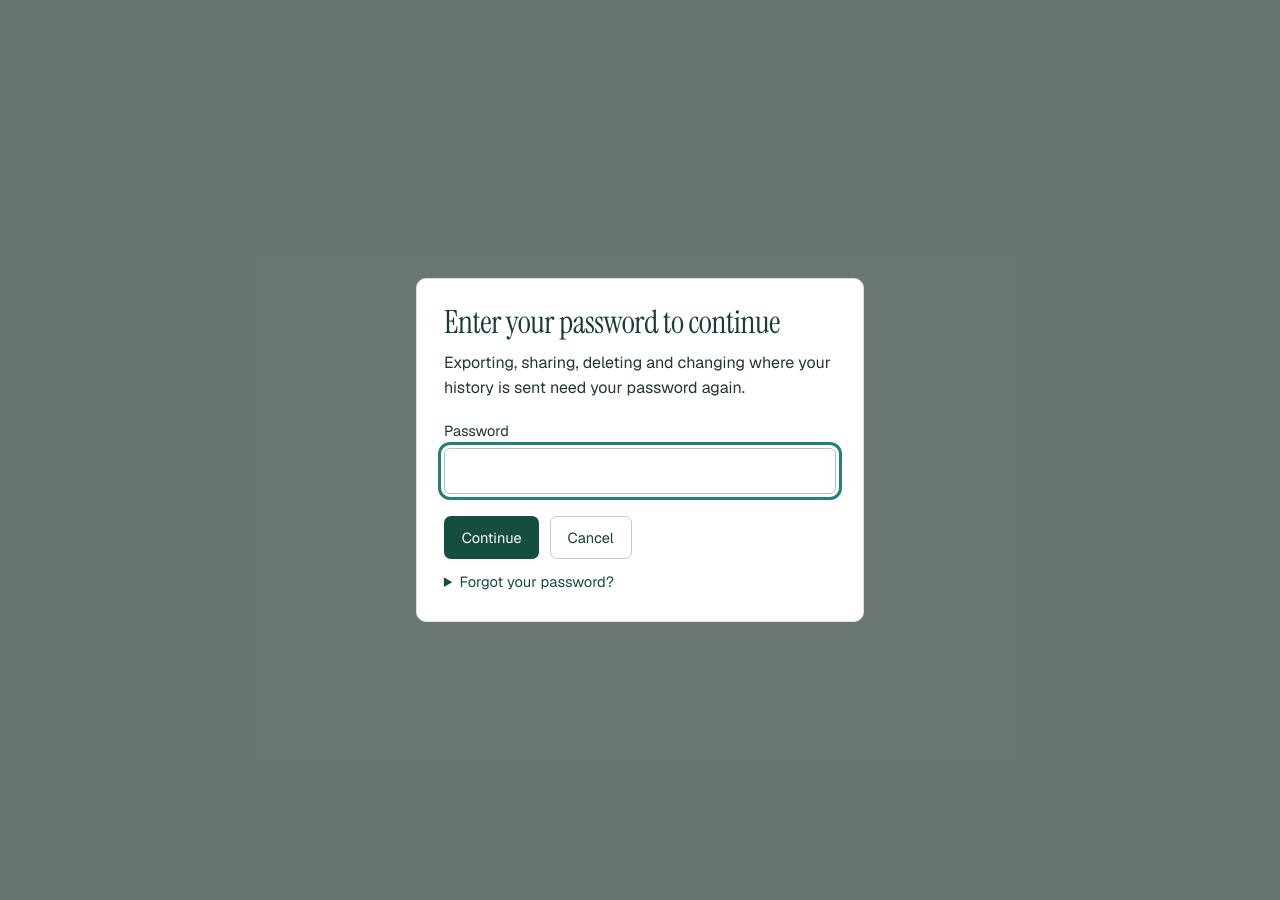
Test: ReauthDialog › reports too many attempts as such
This screenshot has width=1280, height=900.
Step 1. Type "synthetic password" into the password field labelled "Password" → (640, 471), box [444,448,836,494]
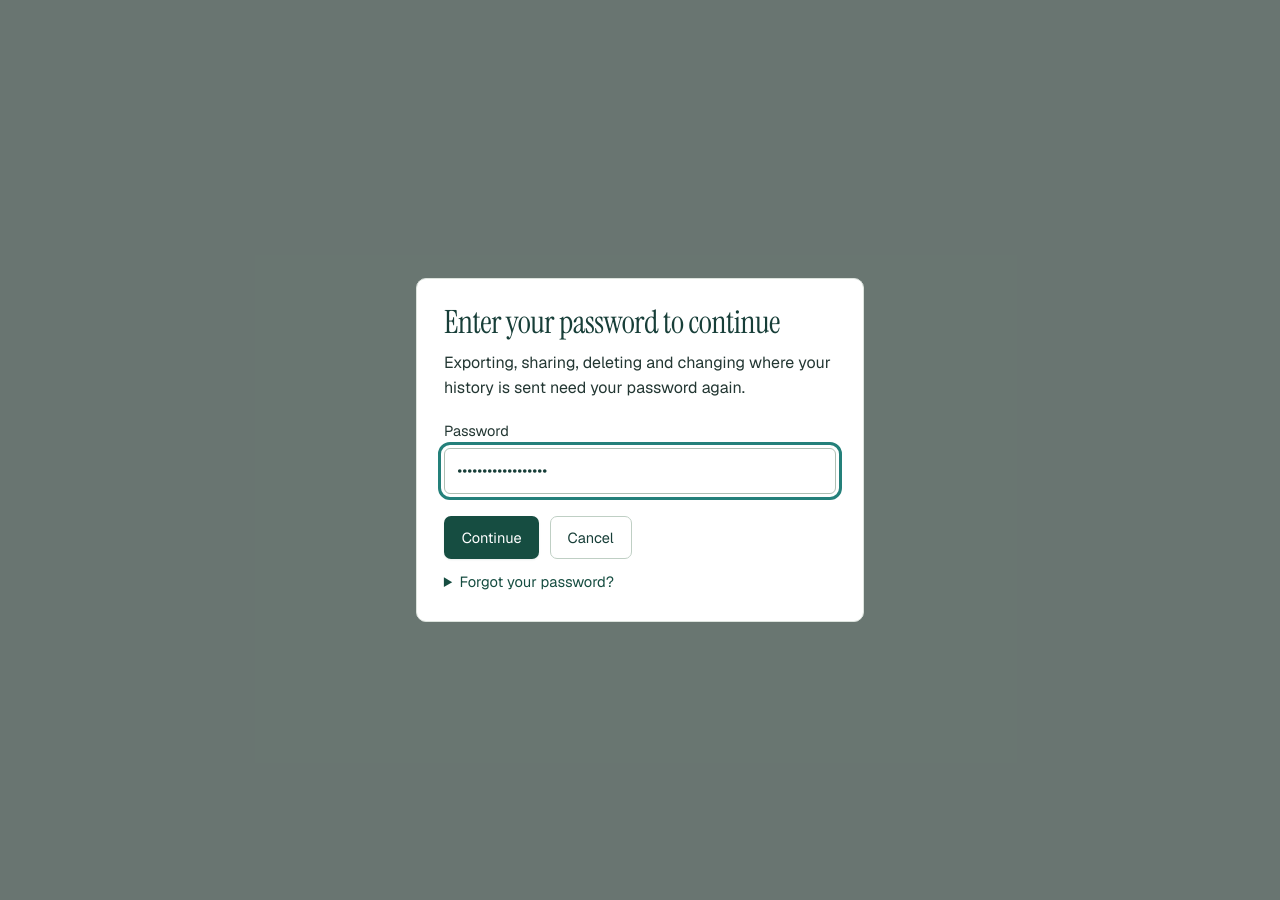
Step 2. Click the button "Continue" → click(492, 538), box [444,516,539,560]
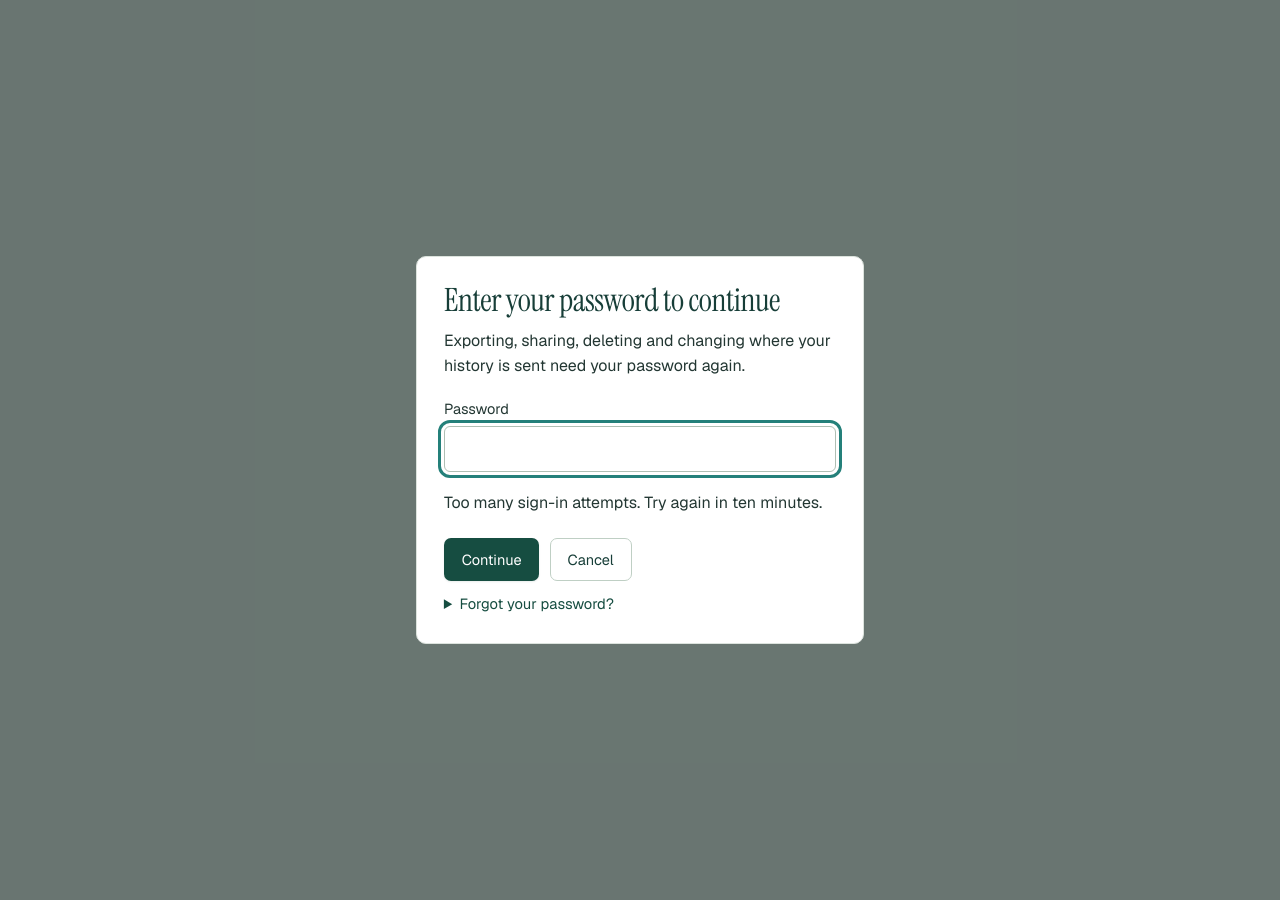
Expected: the message reads "Too many sign-in attempts. Try again in ten minutes.", [444,492,822,513]
